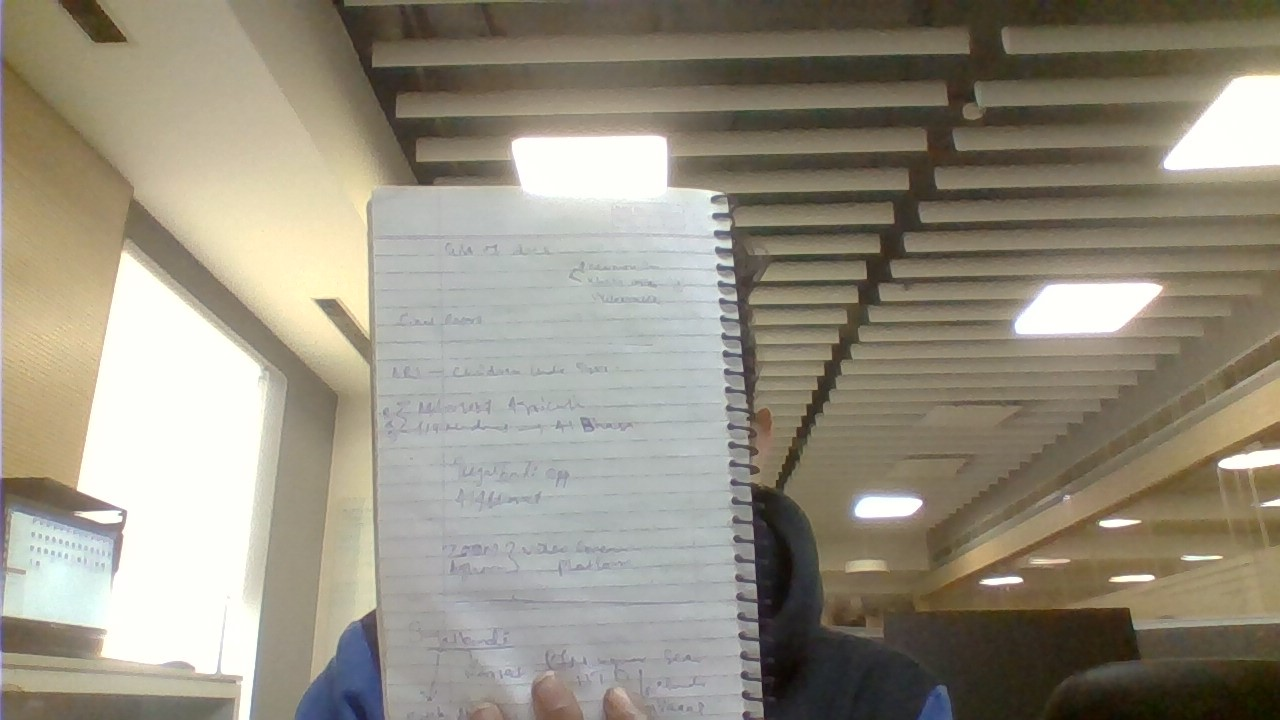partial: (360, 180, 772, 720)
